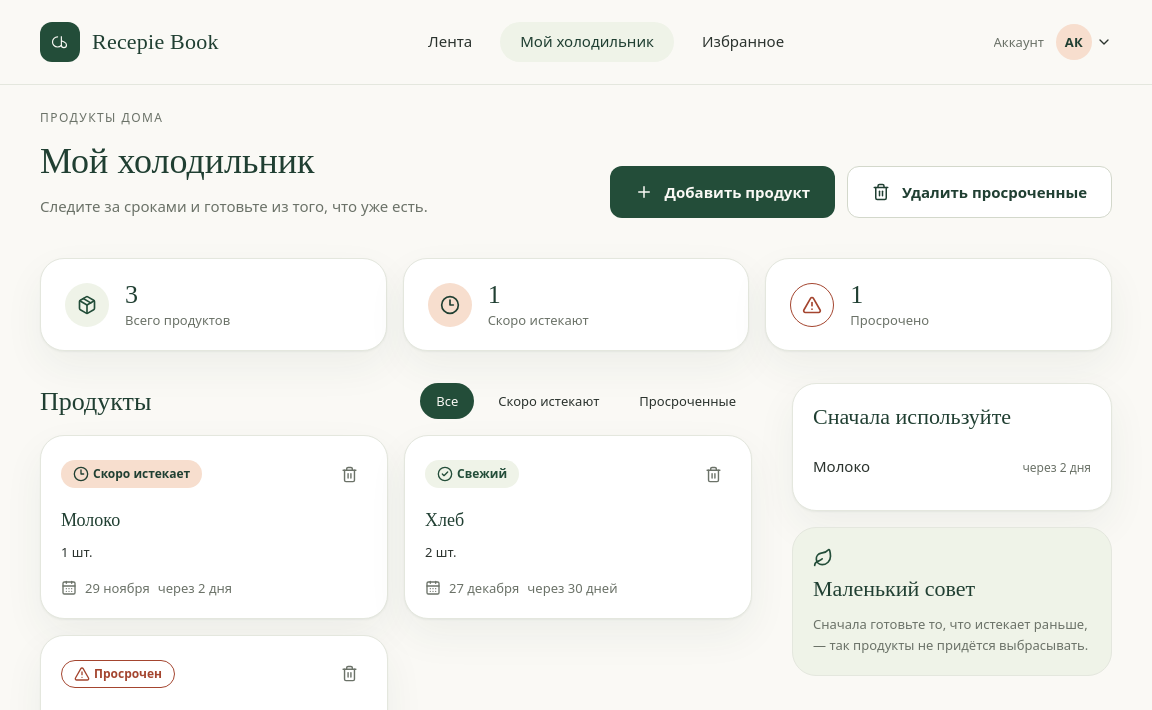
Test case: fridge page › adds a product through the protected endpoint
The width and height of the screenshot is (1152, 710).
Expected: the heading "Молоко" is shown, [61,510,120,530]
Click the button "Добавить продукт": (722, 192) [610,166,835,218]
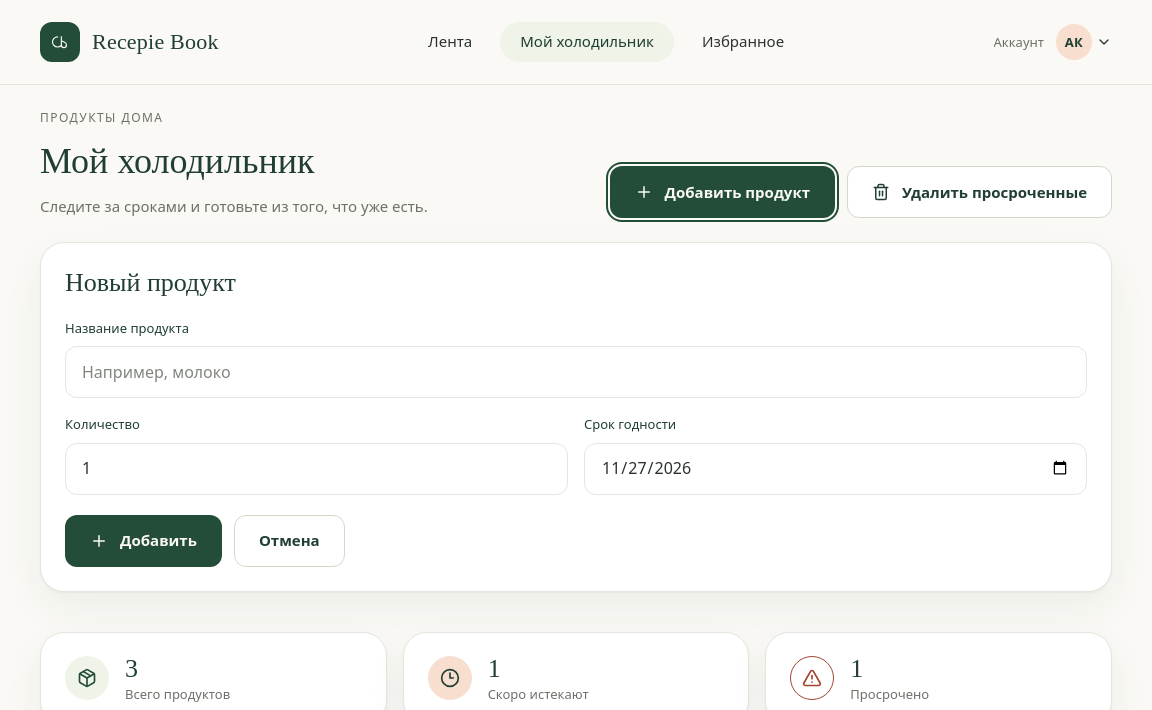
In the field labelled "Название продукта": (576, 372) [65,346,1087,398], type "Кефир"
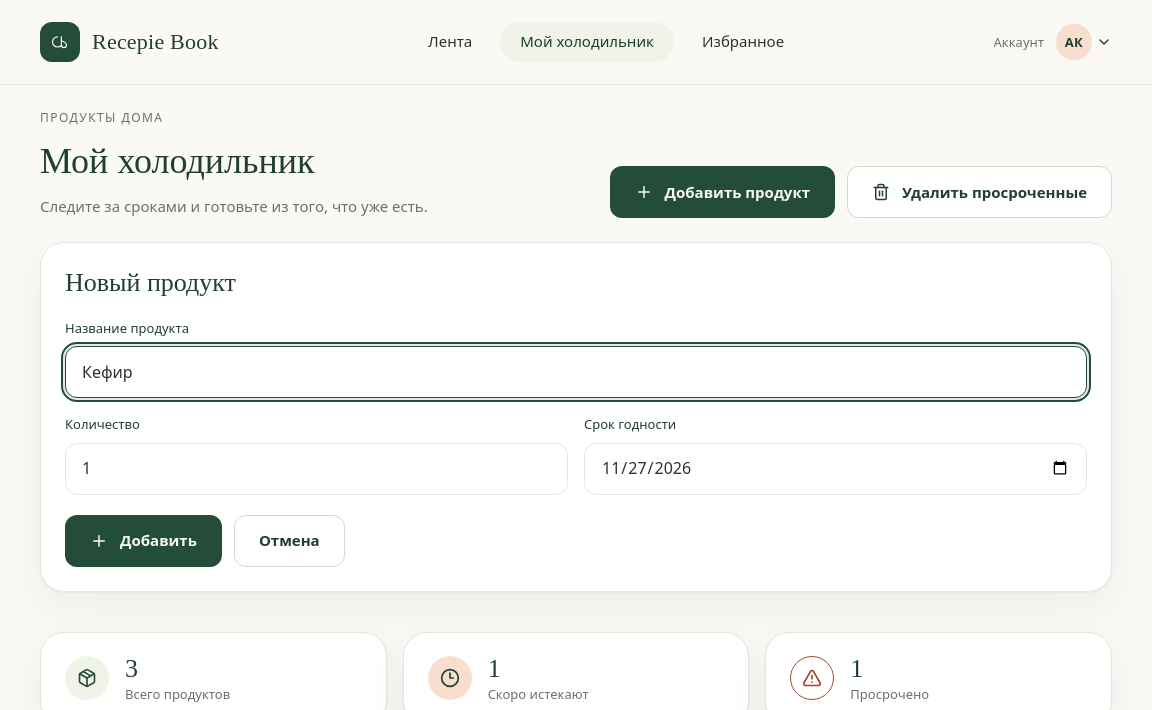
Replace the text in the number field labelled "Количество" with "3": (316, 468) [65,442,568,494]
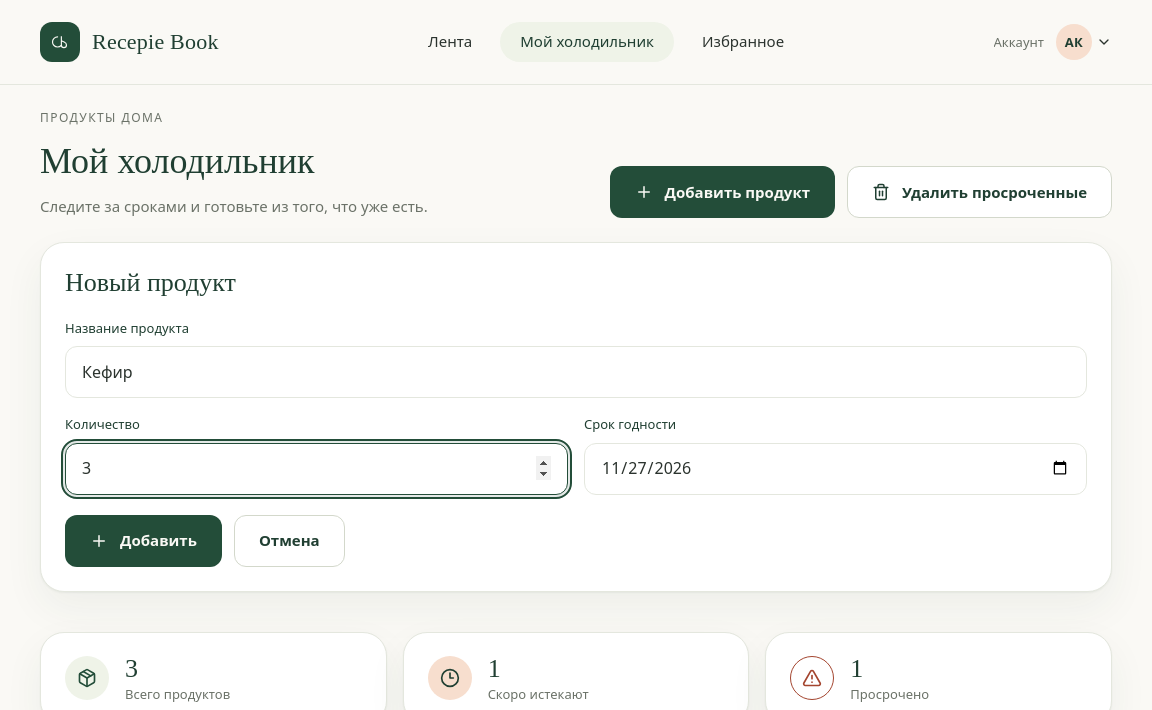
Click the button "Добавить": (143, 540) [65,514,222,566]
(page scrolled)
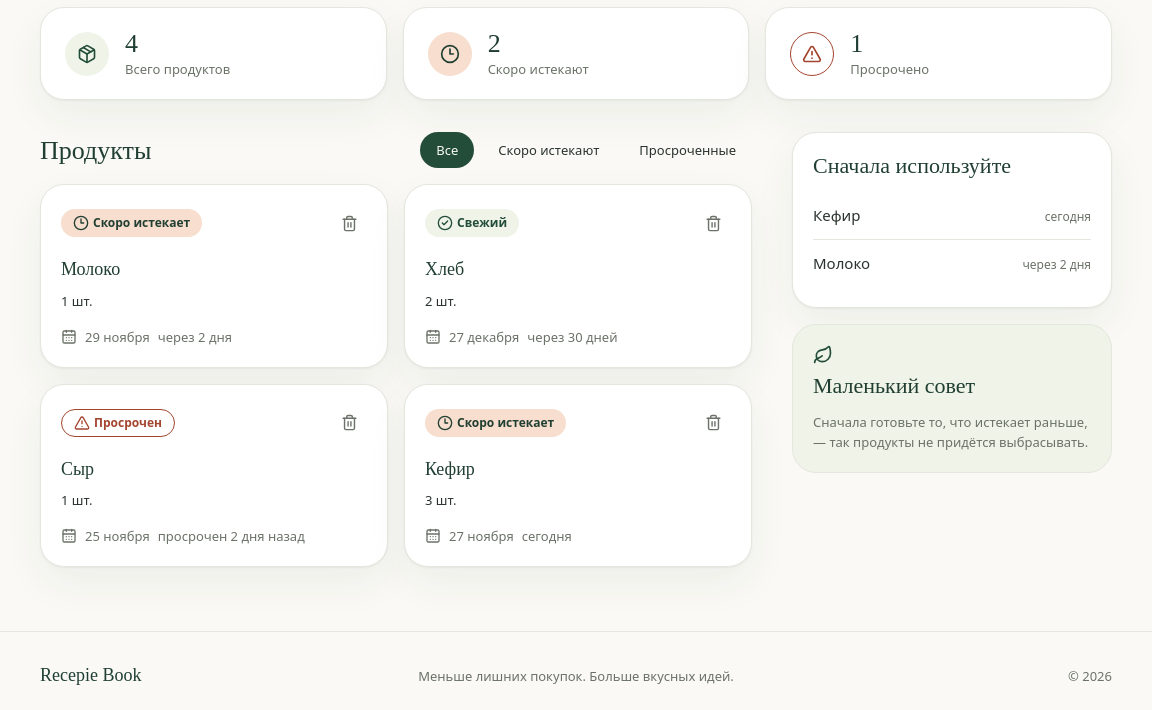
Now the heading "Кефир" is shown, box [425,459,475,479]
Now the text "3 шт." is shown, box [425,491,456,509]
